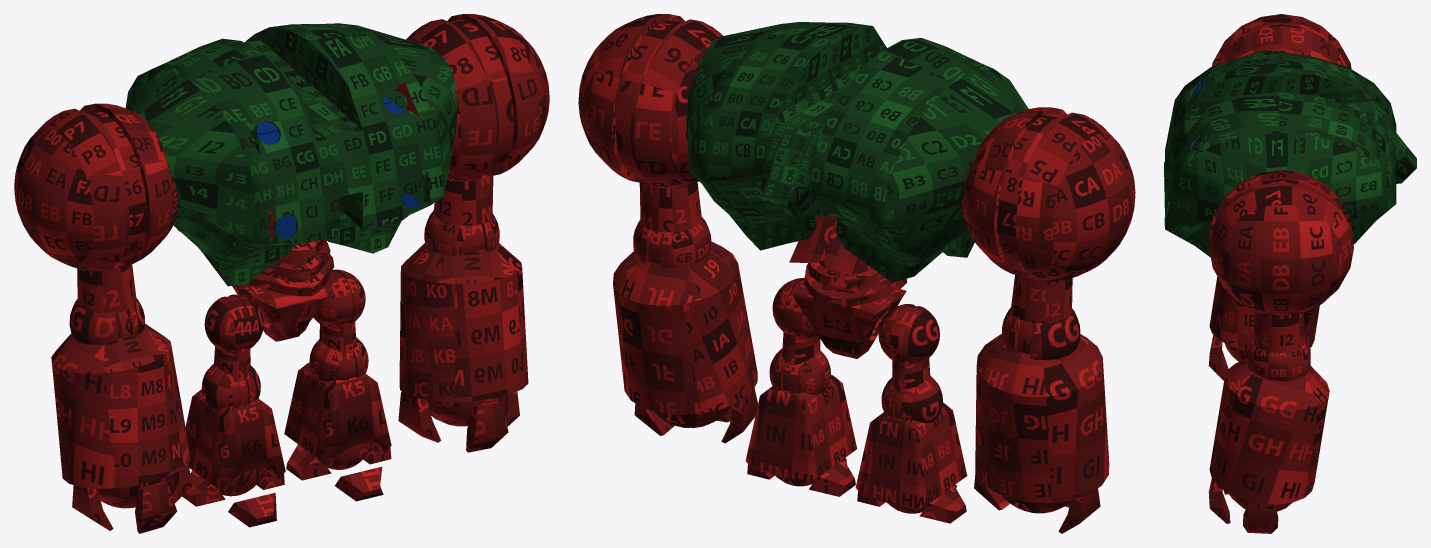
The model's file is ROBOT_SUBSTANCE_V1.fbx.
The picture shows the model from 3 angles, left to right: view 1: azimuth 30°, elevation 25°; view 2: azimuth 150°, elevation 25°; view 3: azimuth 270°, elevation 25°; orthographic projection. The views are drawn at different scales.
Parts seen in each view (by area): view 1: polySurface15, TORSO_V6:polySurface1; view 2: polySurface15, TORSO_V6:polySurface1; view 3: polySurface15, TORSO_V6:polySurface1.
Boxes of the visible parts, x1=… form: polySurface15: x1=14, y1=14, x2=549, y2=533; TORSO_V6:polySurface1: x1=125, y1=23, x2=457, y2=286; polySurface15: x1=578, y1=14, x2=1135, y2=533; TORSO_V6:polySurface1: x1=686, y1=22, x2=1028, y2=282; polySurface15: x1=1208, y1=14, x2=1353, y2=533; TORSO_V6:polySurface1: x1=1164, y1=50, x2=1416, y2=257.
Size of the model in its own units: 4.46 by 3.67 by 2.19.
Materials: 3 (2 with a texture image).
